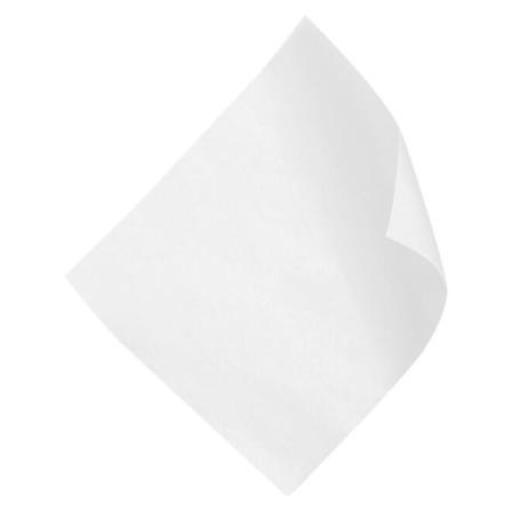paper: (24, 3, 495, 499)
